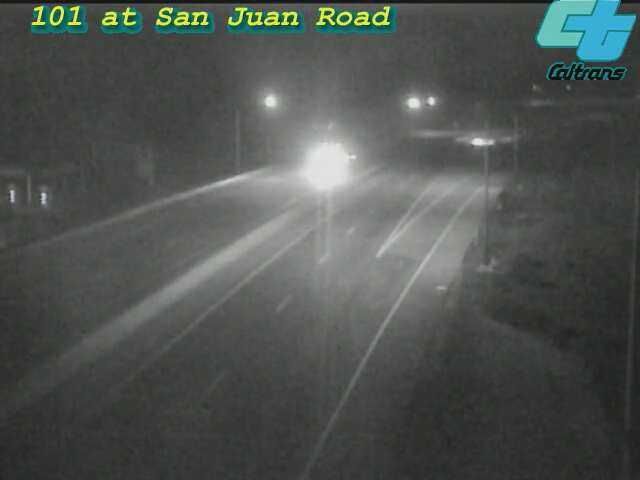vehicle: (289, 123, 369, 203), (451, 117, 501, 167)
